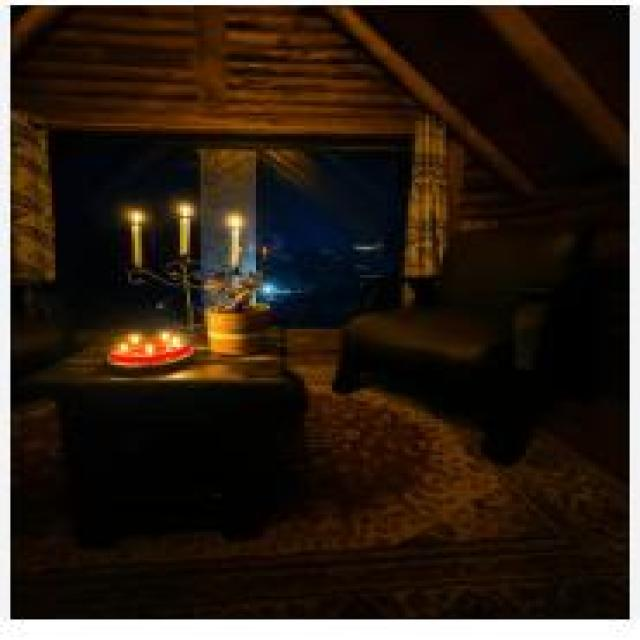Fire_Save: (104, 329, 194, 368)
